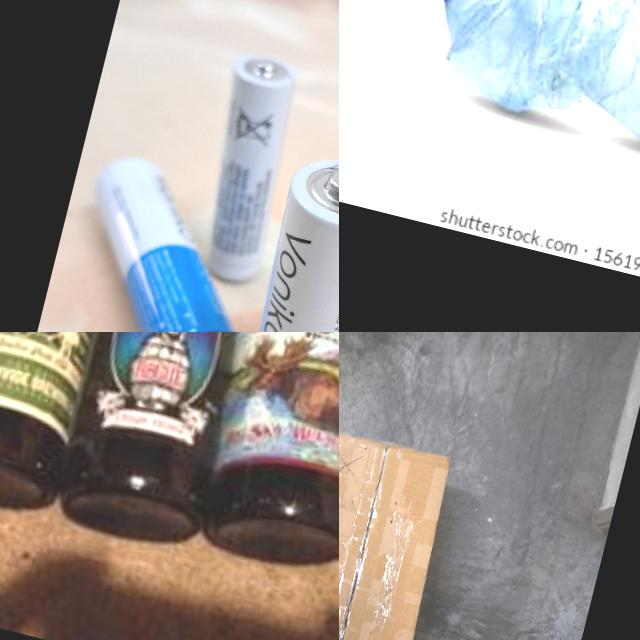bateria: (50, 146, 279, 332), (180, 46, 315, 288), (222, 151, 339, 332)
garrafa de vidro: (47, 332, 309, 557), (179, 332, 339, 583), (0, 332, 163, 525)
garrafa plástica: (420, 0, 640, 191)
papelão: (339, 426, 458, 640)
